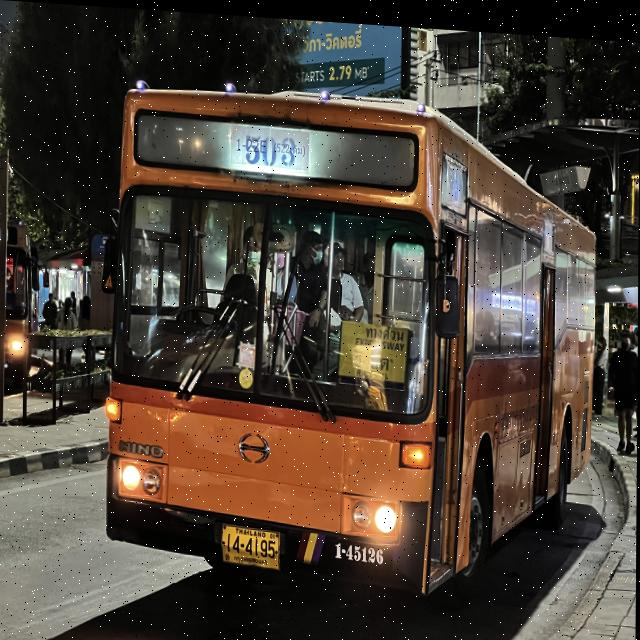BMTA-bus: (102, 80, 598, 602)
Bus-Line-Number: (231, 120, 310, 172)
Destination-Sign-Normal-Expressway: (338, 308, 413, 385)
